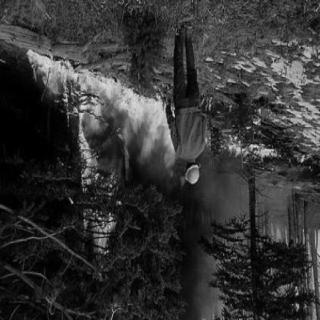Fire: (76, 90, 180, 158), (81, 146, 125, 268), (31, 53, 83, 117), (228, 139, 285, 165)
